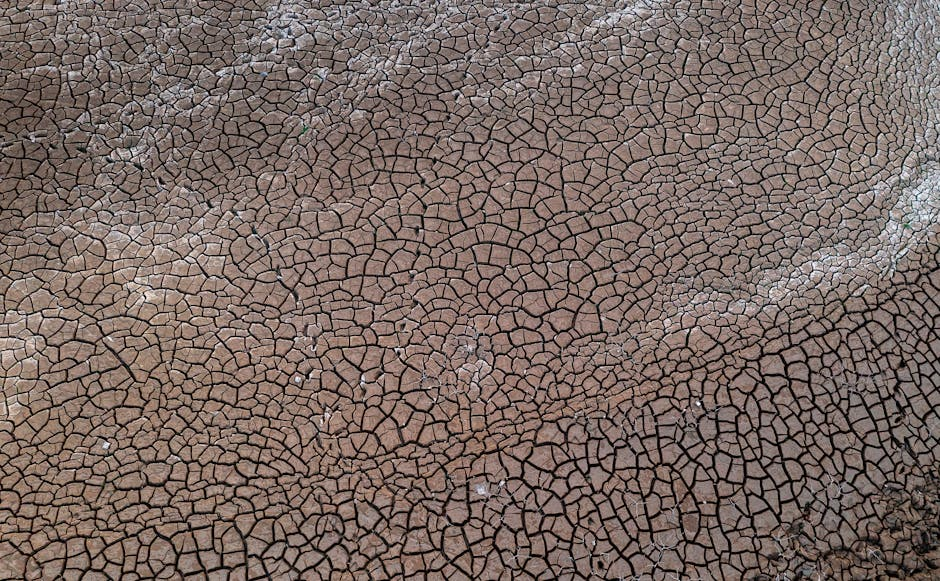网状裂隙: (45, 53, 839, 534)
